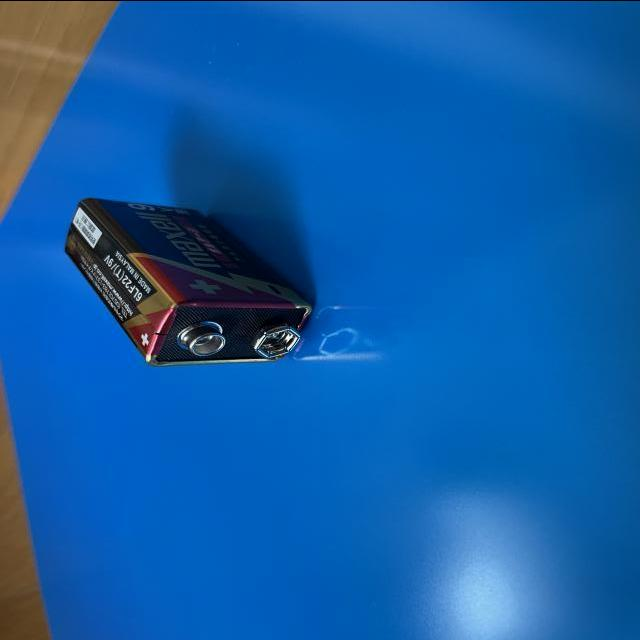9V: (61, 196, 314, 365)
